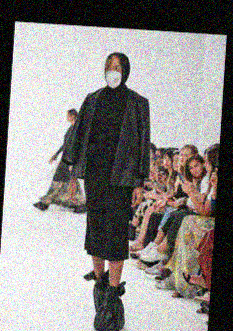with_mask: (103, 63, 122, 89)
without_mask: (187, 162, 202, 179), (202, 157, 212, 175), (178, 152, 189, 167), (162, 155, 171, 169), (170, 157, 178, 171), (152, 153, 160, 166), (64, 113, 70, 123)
